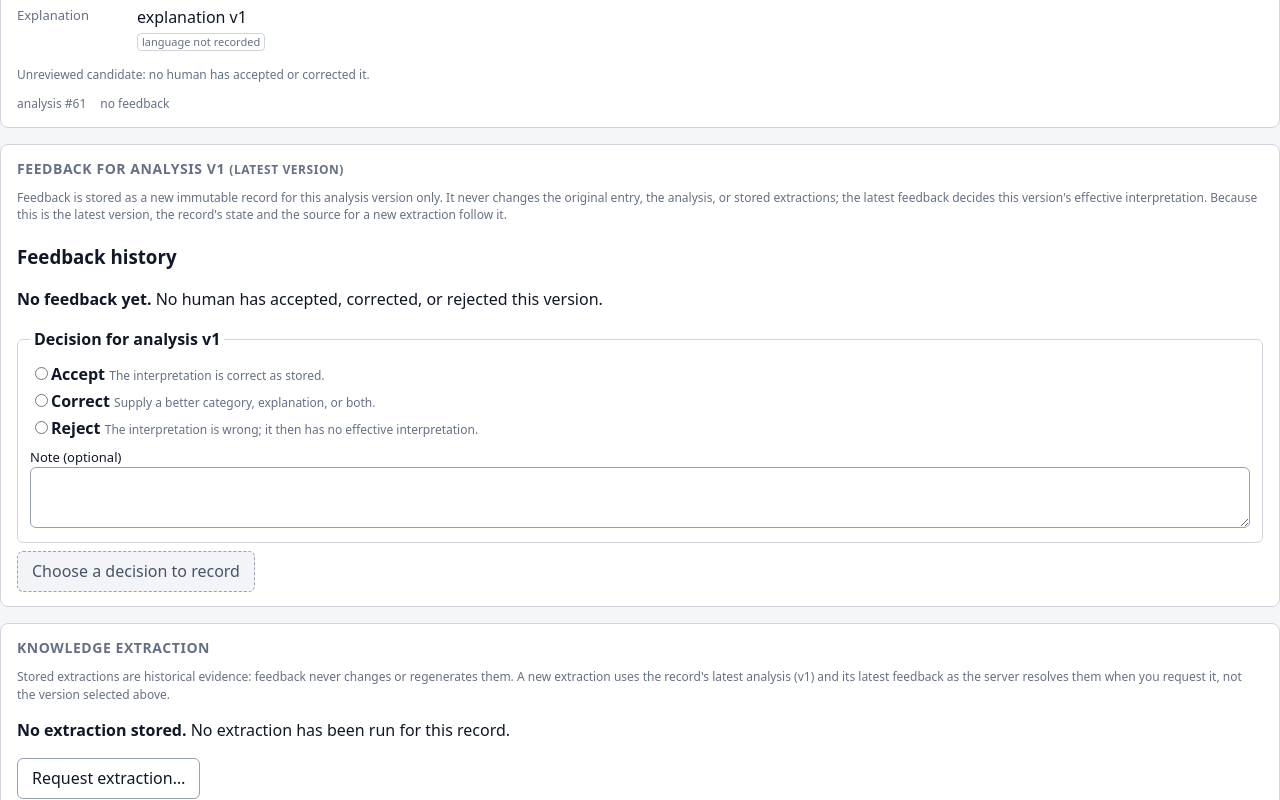
it: StrictMode: uncertain writes and duplicates › feedback: an unknown outcome keeps the draft and unblocks only after the history re-read
The width and height of the screenshot is (1280, 800).
(page scrolled)
Expected: the text "No feedback yet." is shown, [17, 288, 152, 310]
Click the radio button labelled "Correct Supply a better category, explanation, or both." at [42, 400], box [35, 394, 48, 407]
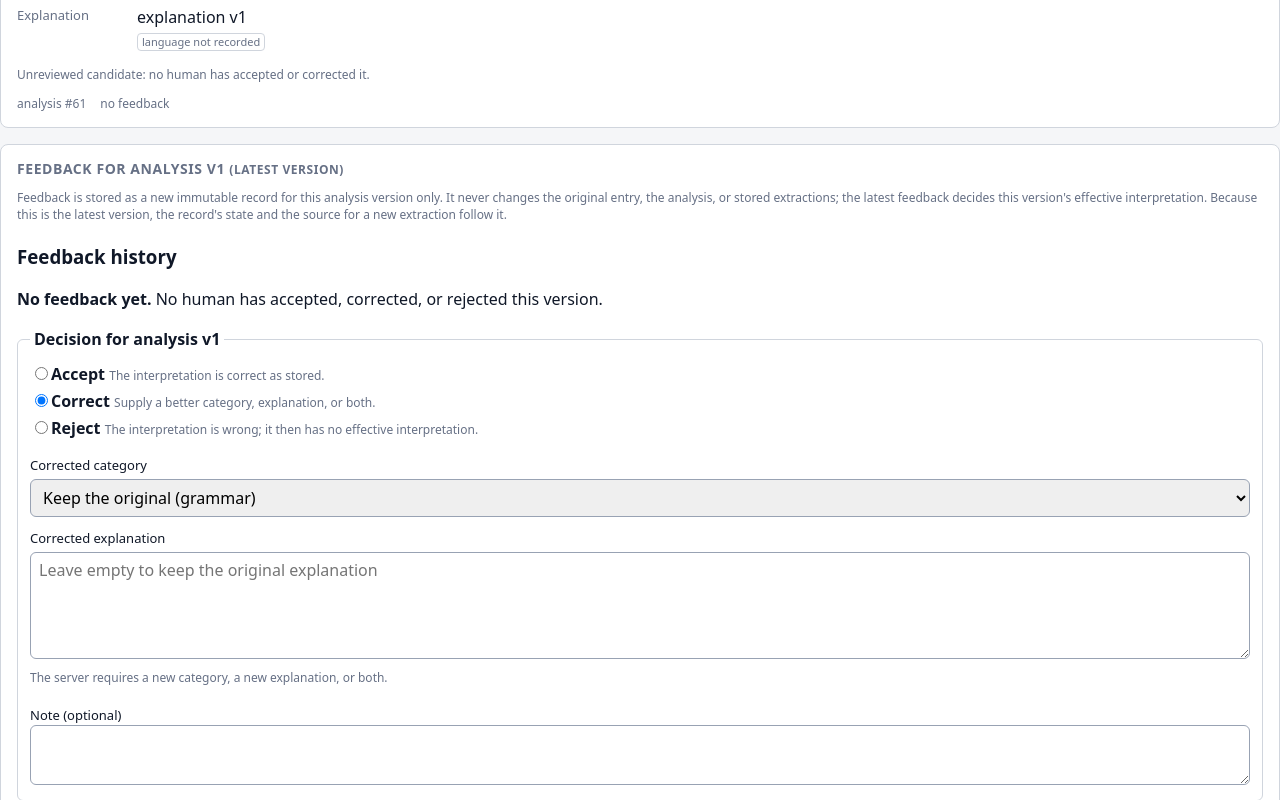
Type "strict draft" into the text box labelled "Corrected explanation" at [640, 605], box [30, 552, 1250, 659]
(page scrolled)
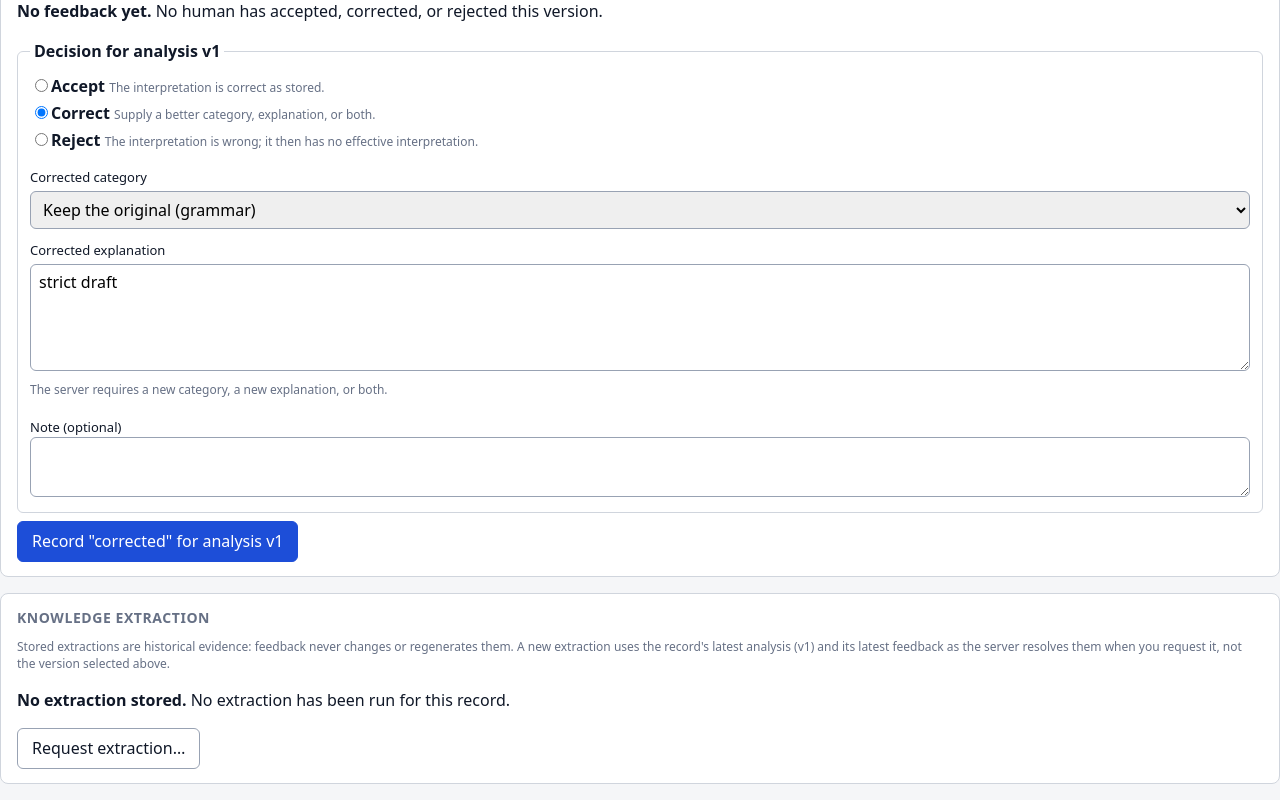
Click the button "Record \"corrected\" for analysis v1" at [158, 541], box [17, 521, 298, 562]
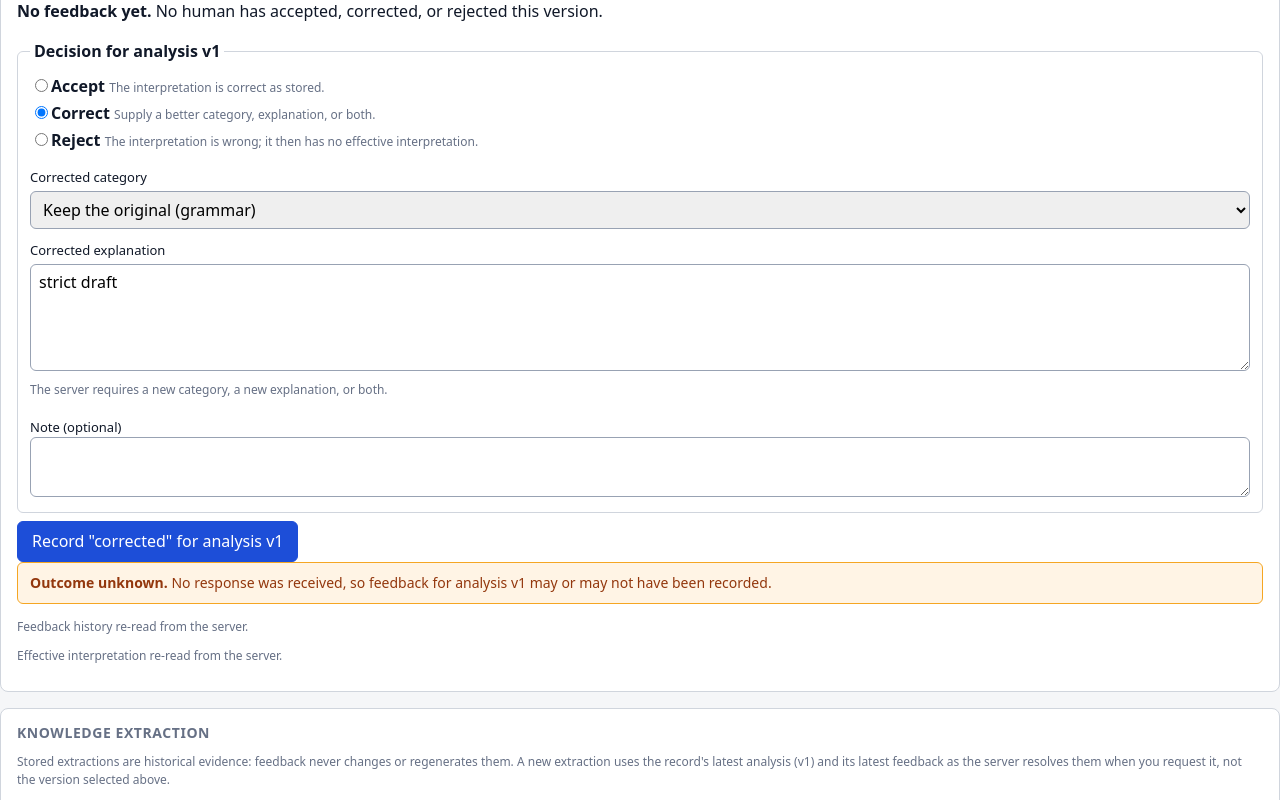
Expected: the button "Record \"corrected\" for analysis v1" is enabled, [17, 521, 298, 562]
Expected: the message that starts with "Outcome unknown." is shown, [17, 562, 1263, 604]
Expected: the message "Feedback history re-read from the server." is shown, [17, 618, 248, 635]
